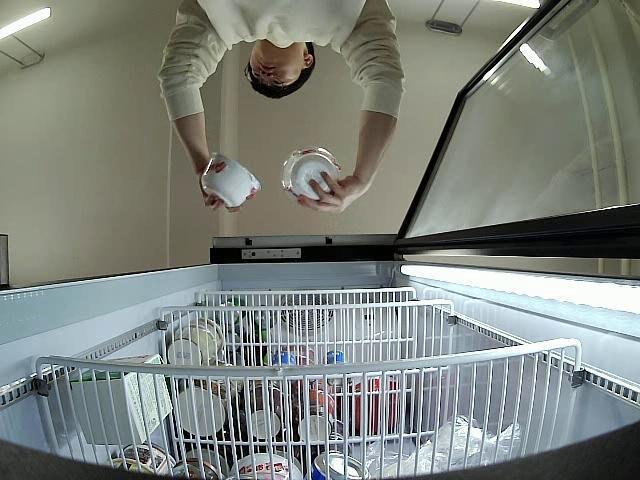09_yukGaeJang: (202, 151, 262, 208), (282, 146, 340, 201)
